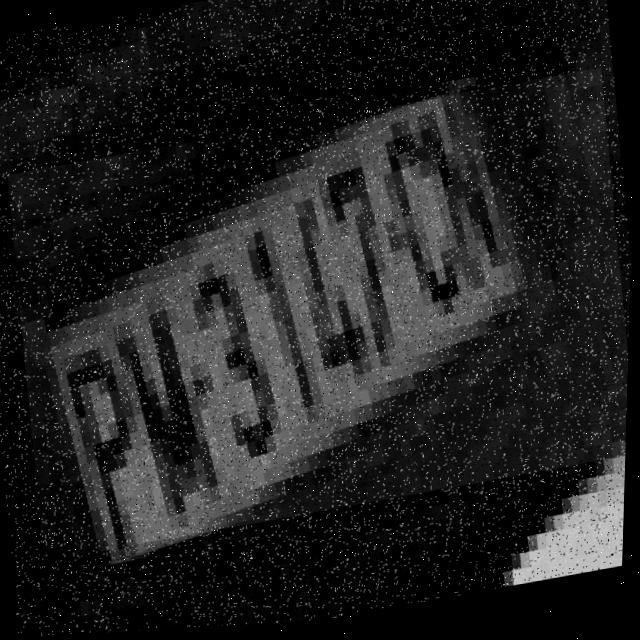LicensePlate: (0, 72, 638, 563)
